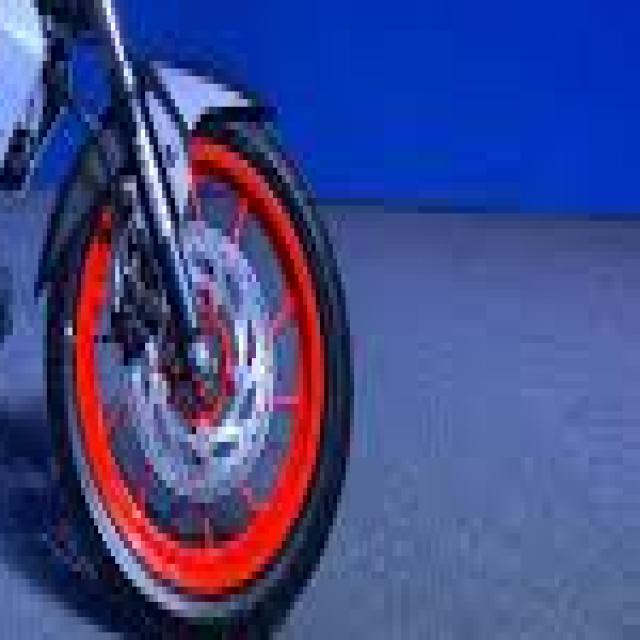bike: (0, 0, 358, 632)
